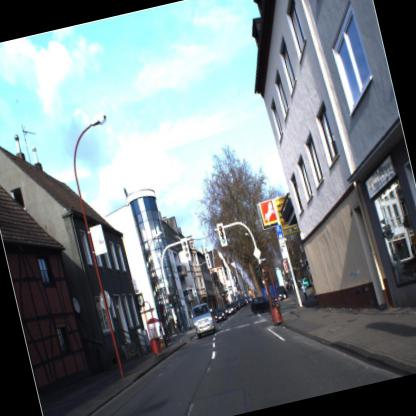other: (249, 240, 264, 263)
